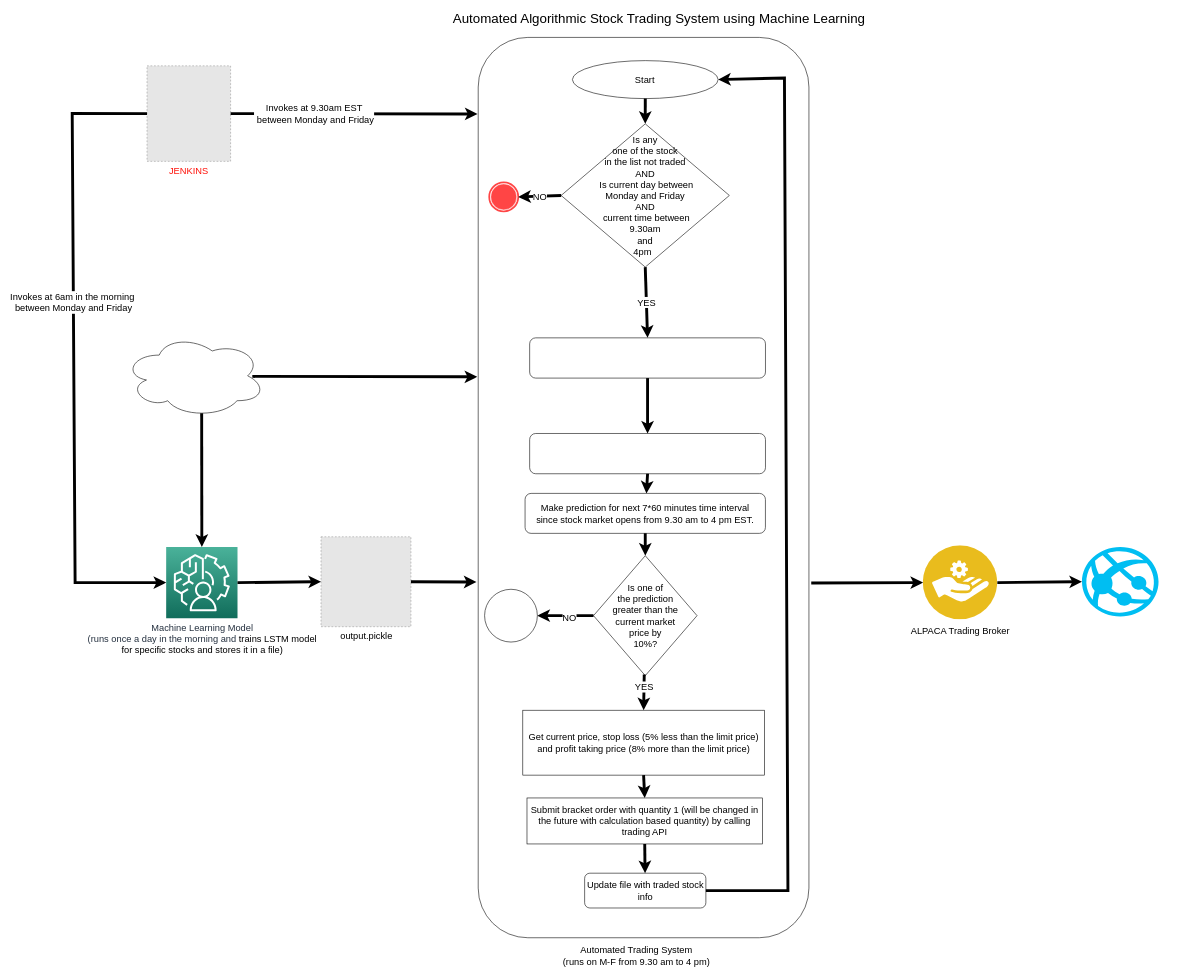
Some shapes in this 1184 by 977 pixel diagram are drawn without their labels. Grey dashed boxes stand in for pictures. Here are the shapes that lost their labels. From the top down, the centre of each, then its label:
At (503,196): "STOP".
At (194,375): "Yahoo Finance API".
At (647,357): "For each stock that has not been traded".
At (647,453): "Read output.pickle file".
At (1120,581): "Website (Display current positions)".
At (510,615): "Do nothing".
